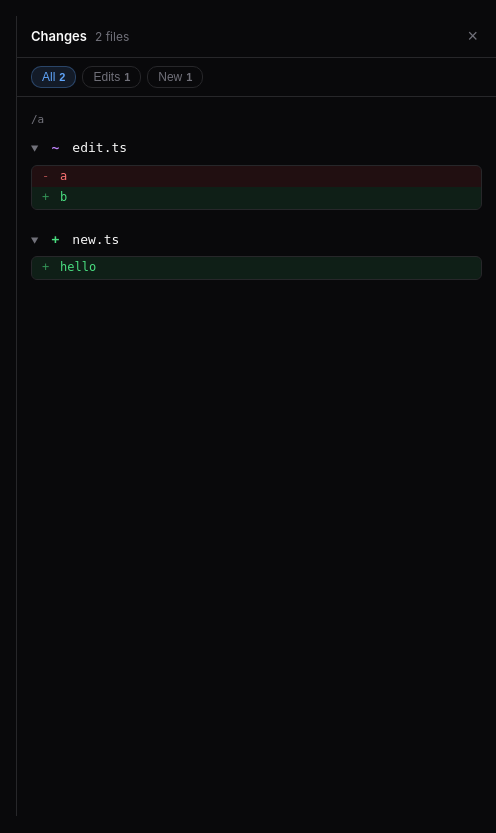
Scenario: ChangesPanel › clicking New filter shows only write/notebook files
This screenshot has width=496, height=833.
Click the button with class "chat-changes-chip" showing "New 1".
click(175, 77)  # box x1=147 y1=66 x2=203 y2=88
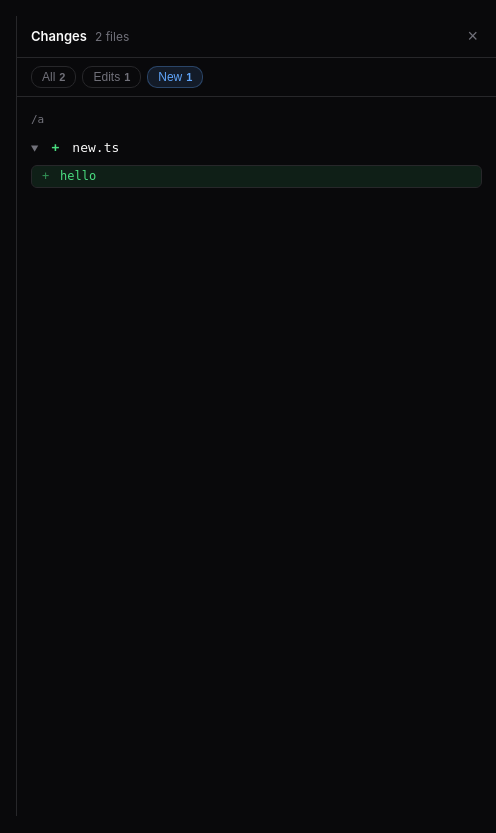
Expected: the text with class "chat-changes-fname" reads "new.ts", x1=72 y1=140 x2=119 y2=155
Expected: the number of elements with class "chat-changes-file-block" is 1, x1=17 y1=132 x2=495 y2=200
